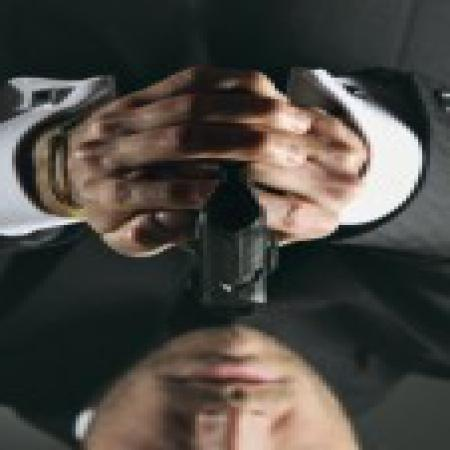Pistol: (183, 144, 295, 326)
